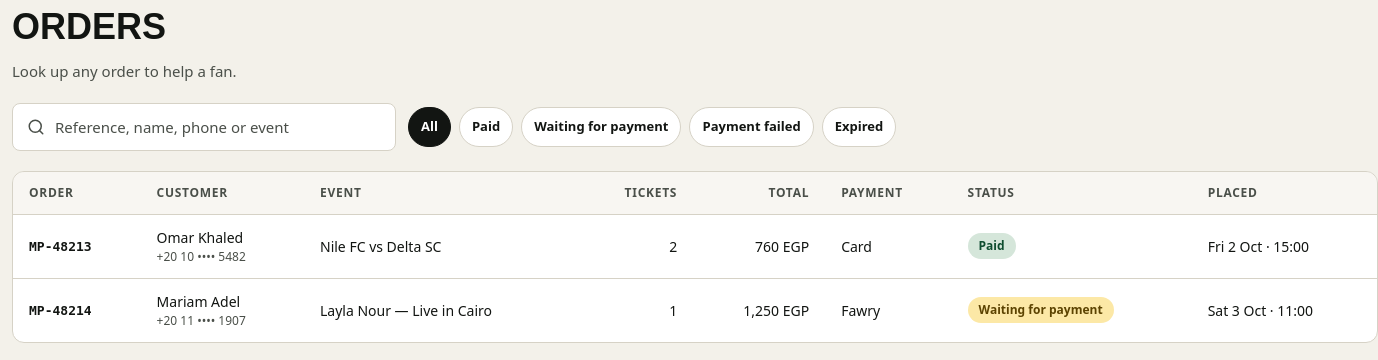
pages › orders: filters by status
Click the button "Waiting for payment". click: (601, 126)
box: [521, 106, 682, 146]
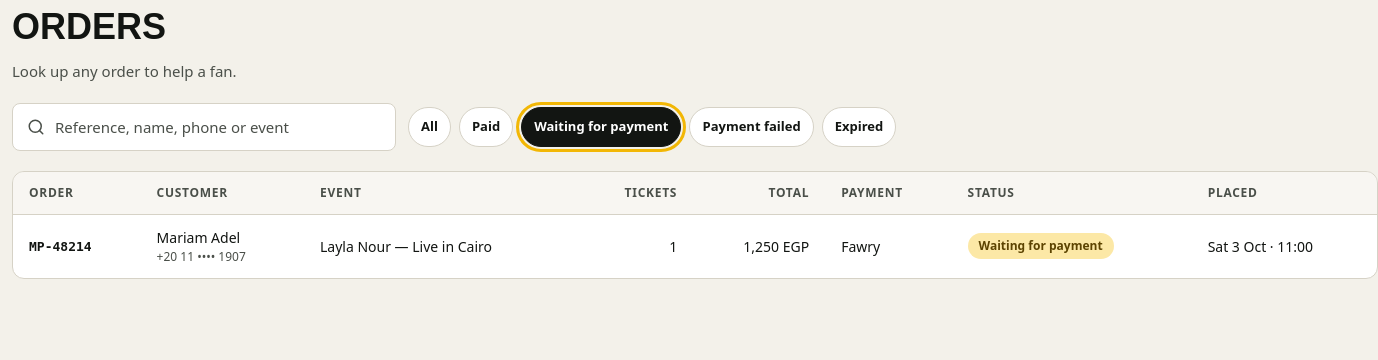
Check: the table named "Orders" shows "MP-48214", box [29, 239, 92, 254]
Check: the number of rows is 2, box [13, 172, 1377, 214]; [13, 214, 1377, 278]
